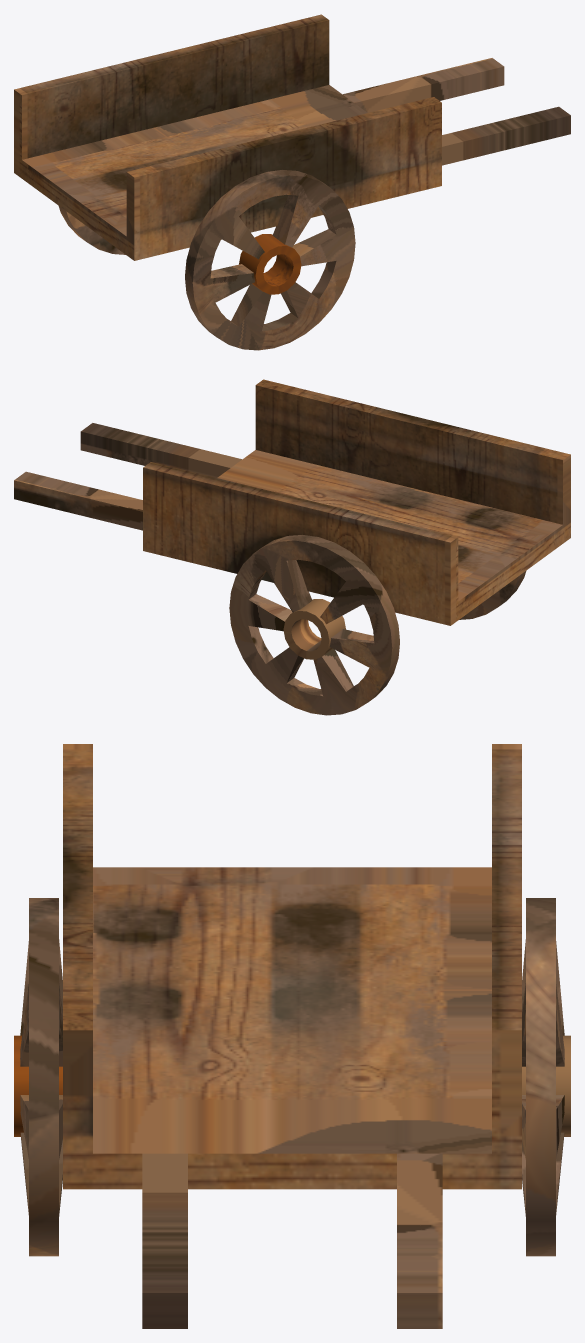
Rendered from CarrettoSpaccabile.fbx.
3 views of the same model, one above another, from view 1: azimuth 30°, elevation 25°; view 2: azimuth 150°, elevation 25°; view 3: azimuth 270°, elevation 25° (orthographic). The views are drawn at different scales.
Visible parts, largest first — view 1: Carretto.007, Carretto.002, Carretto.003, Carretto.001, Carretto.004, Carretto.005, Carretto.009, Carretto.008, Carretto.006; view 2: Carretto.006, Carretto.002, Carretto.001, Carretto.005, Carretto.004, Carretto.003, Carretto.008, Carretto.009, Carretto.007; view 3: Carretto.003, Carretto.001, Carretto.002, Carretto.006, Carretto.007, Carretto.008, Carretto.009, Carretto.005, Carretto.004.
Part boxes in pixels (<box>): Carretto.007: <box>185,170,355,350</box>; Carretto.002: <box>74,134,288,260</box>; Carretto.003: <box>14,85,367,216</box>; Carretto.001: <box>280,97,441,217</box>; Carretto.004: <box>14,52,175,159</box>; Carretto.005: <box>168,14,329,122</box>; Carretto.009: <box>343,58,504,112</box>; Carretto.008: <box>442,106,570,165</box>; Carretto.006: <box>58,206,125,254</box>; Carretto.006: <box>229,535,399,715</box>; Carretto.002: <box>371,417,570,581</box>; Carretto.001: <box>217,379,416,515</box>; Carretto.005: <box>143,462,304,557</box>; Carretto.004: <box>296,499,458,606</box>; Carretto.003: <box>143,532,510,625</box>; Carretto.008: <box>80,423,241,477</box>; Carretto.009: <box>14,471,142,530</box>; Carretto.007: <box>459,571,526,619</box>; Carretto.003: <box>292,867,521,1189</box>; Carretto.001: <box>63,887,292,1189</box>; Carretto.002: <box>63,744,292,1010</box>; Carretto.006: <box>522,898,570,1256</box>; Carretto.007: <box>14,898,62,1256</box>; Carretto.008: <box>142,1153,187,1328</box>; Carretto.009: <box>397,1153,442,1328</box>; Carretto.005: <box>492,887,521,1153</box>; Carretto.004: <box>492,744,521,887</box>.
Size of the model in its own units: 2.33 by 0.9538 by 1.29.
